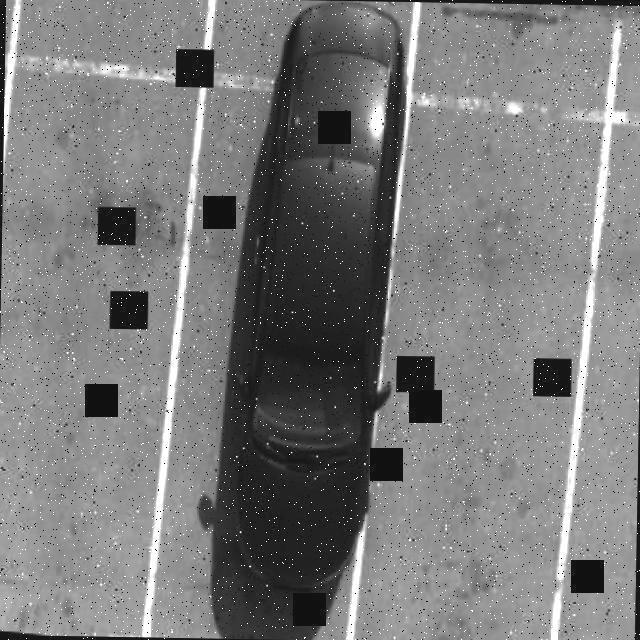space-empty: (378, 107, 601, 640), (0, 67, 204, 632), (566, 127, 640, 640)
space-occupied: (212, 0, 440, 633)
